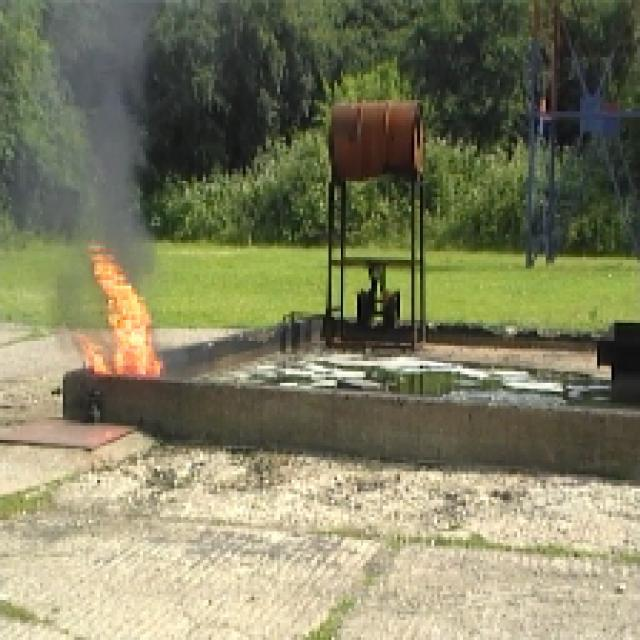Fire: (84, 238, 160, 378)
Smoke: (60, 0, 169, 236)
